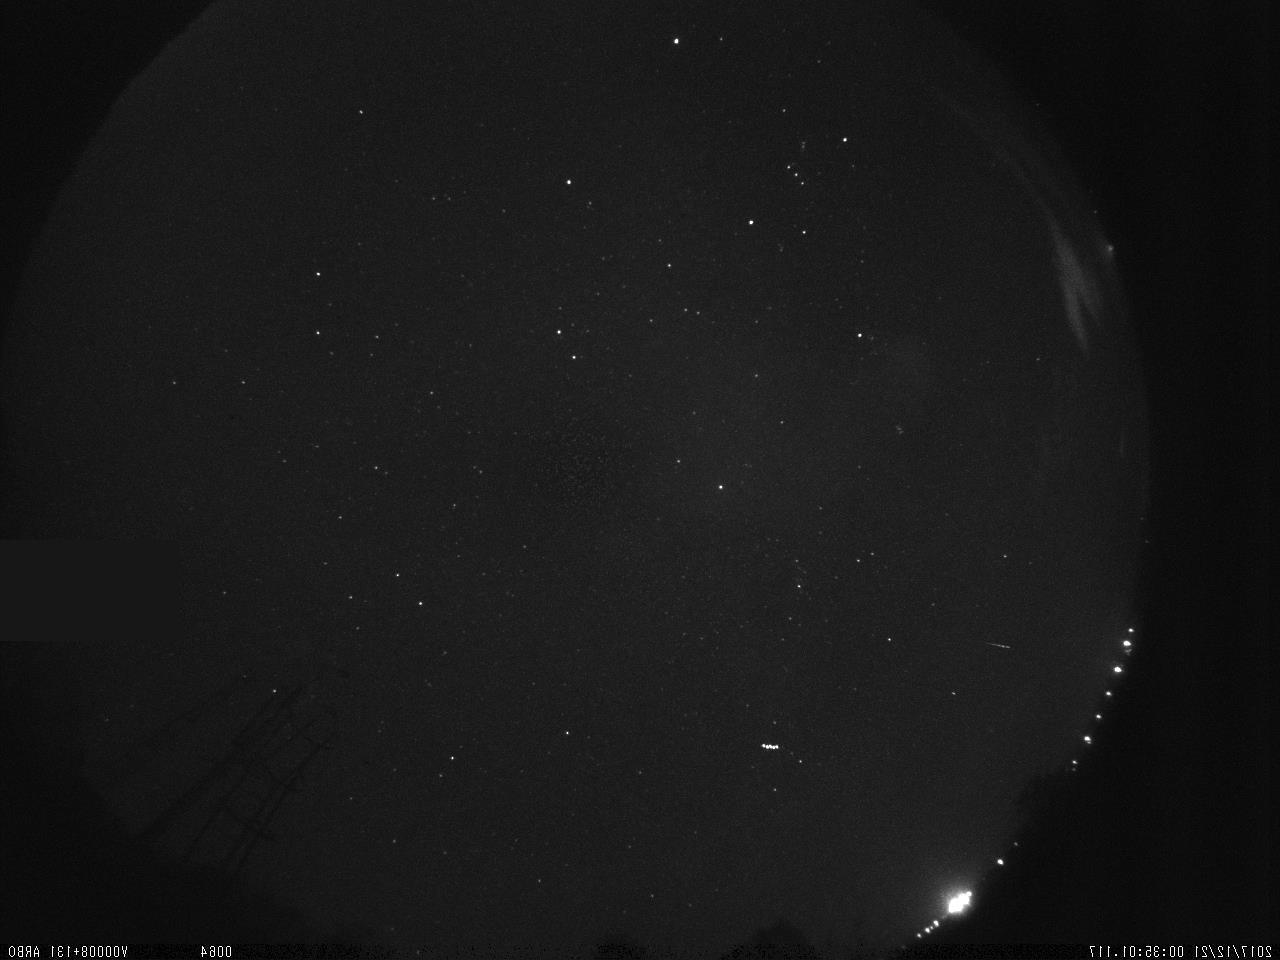meteor: (978, 637, 1019, 657)
